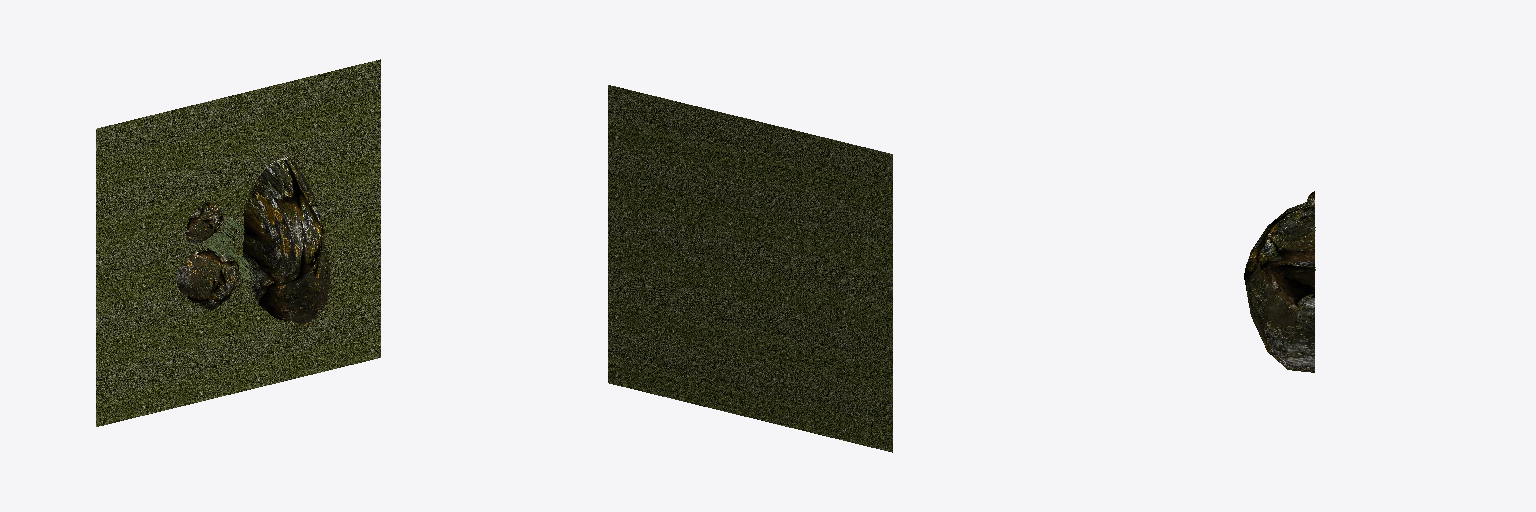
3 views of the same model, side by side, from view 1: azimuth 30°, elevation 25°; view 2: azimuth 150°, elevation 25°; view 3: azimuth 270°, elevation 25° (orthographic).
Size of the model in its own units: 140 by 140 by 30.43.
Materials: 6 (2 with a texture image).